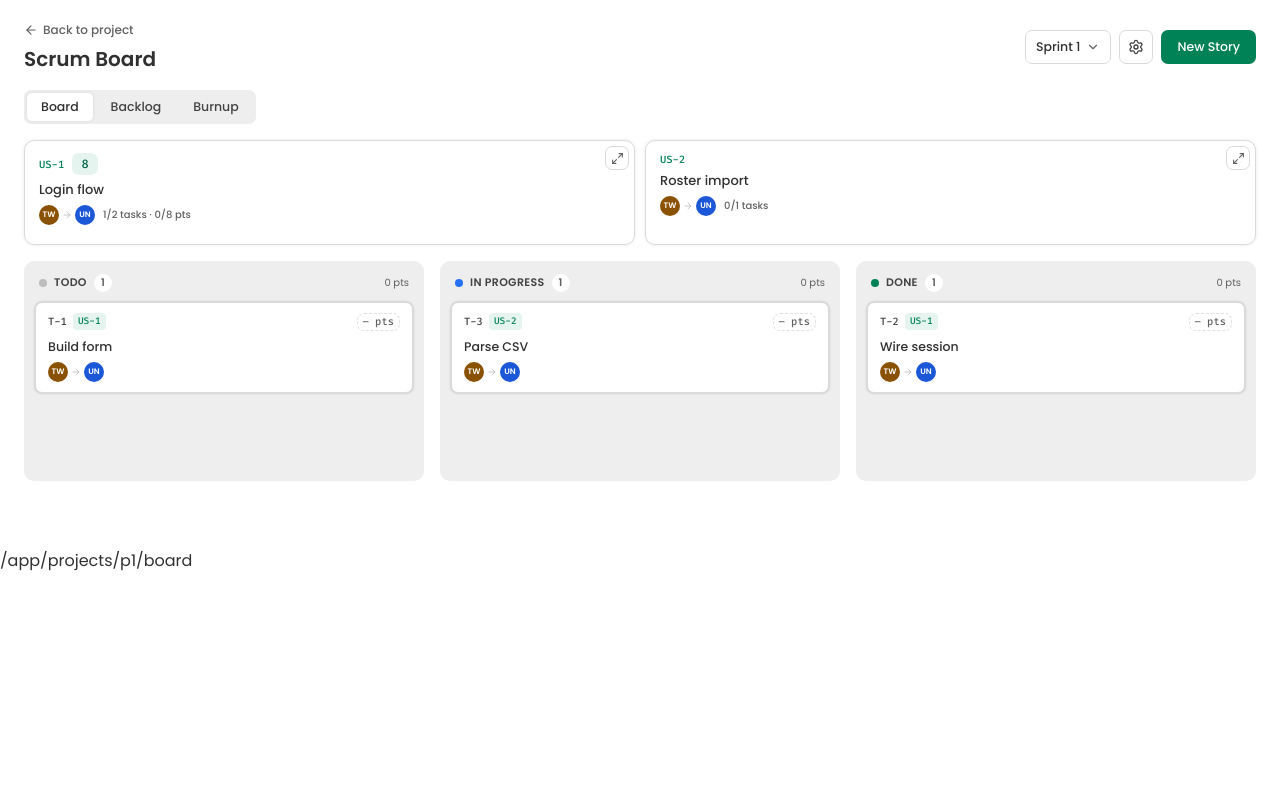
Test: ScrumBoardPage new sprint › opens from the sprint picker's menu and refuses a blank name
Click the button with aria-label "Sprint: Sprint 1" at (1068, 47), box [1025,30,1111,64]
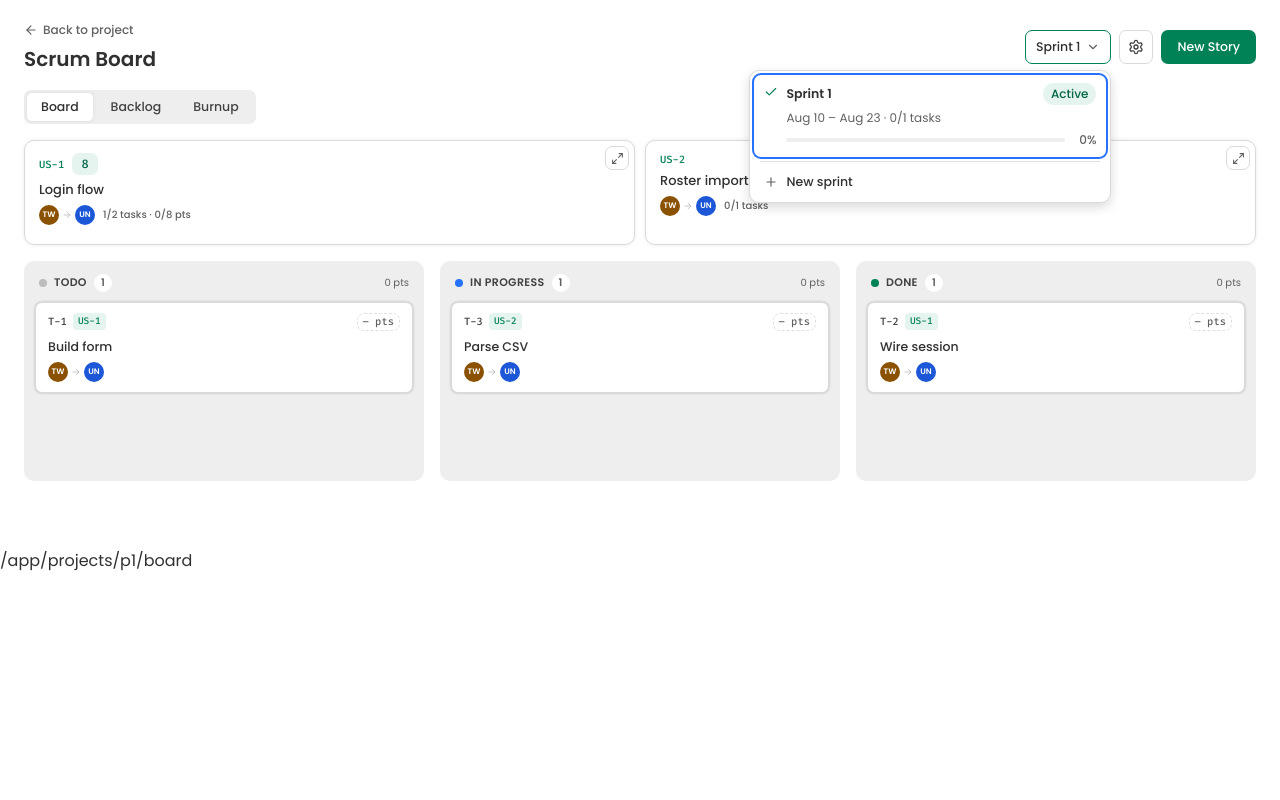
Click the menu item "New sprint" at (820, 182), box [754,166,1106,198]
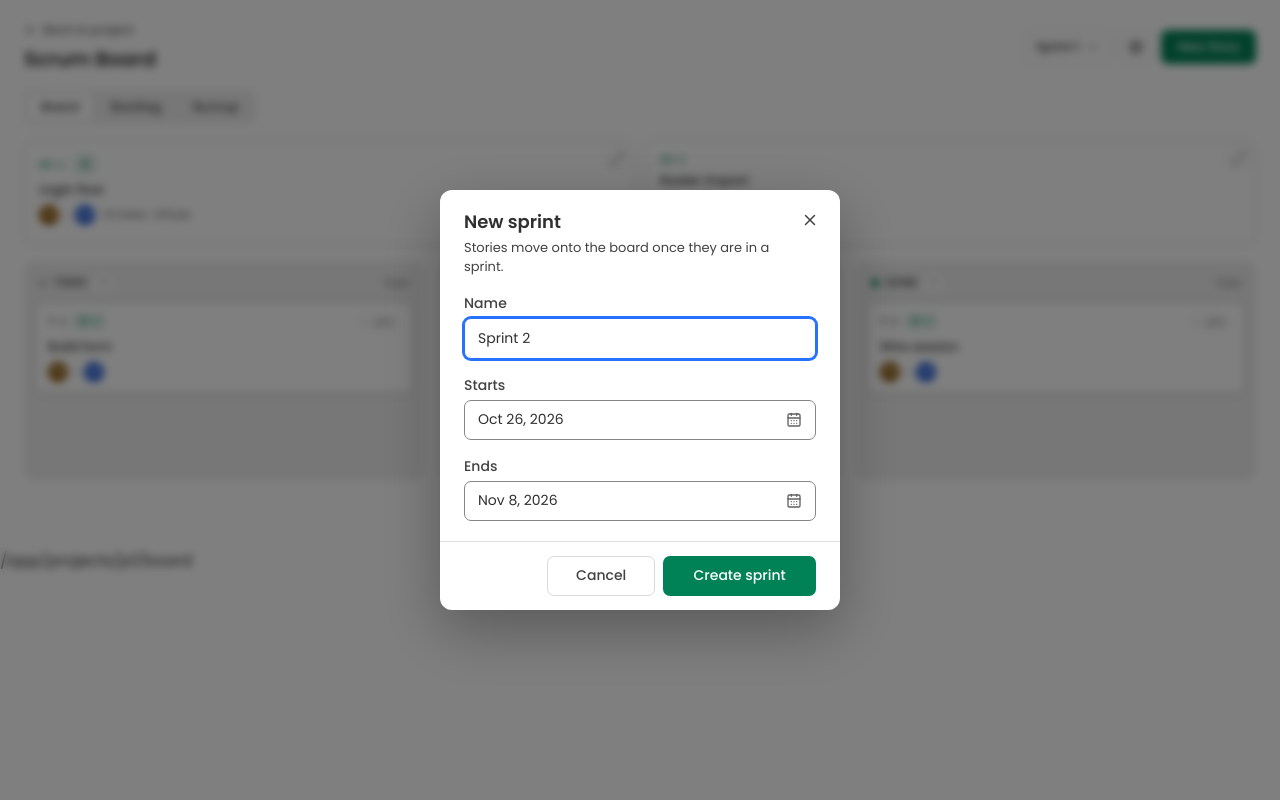
Expected: the field labelled "Name" holds "Sprint 2"
Clear the field labelled "Name" at (640, 338), box [464,318,816,359]
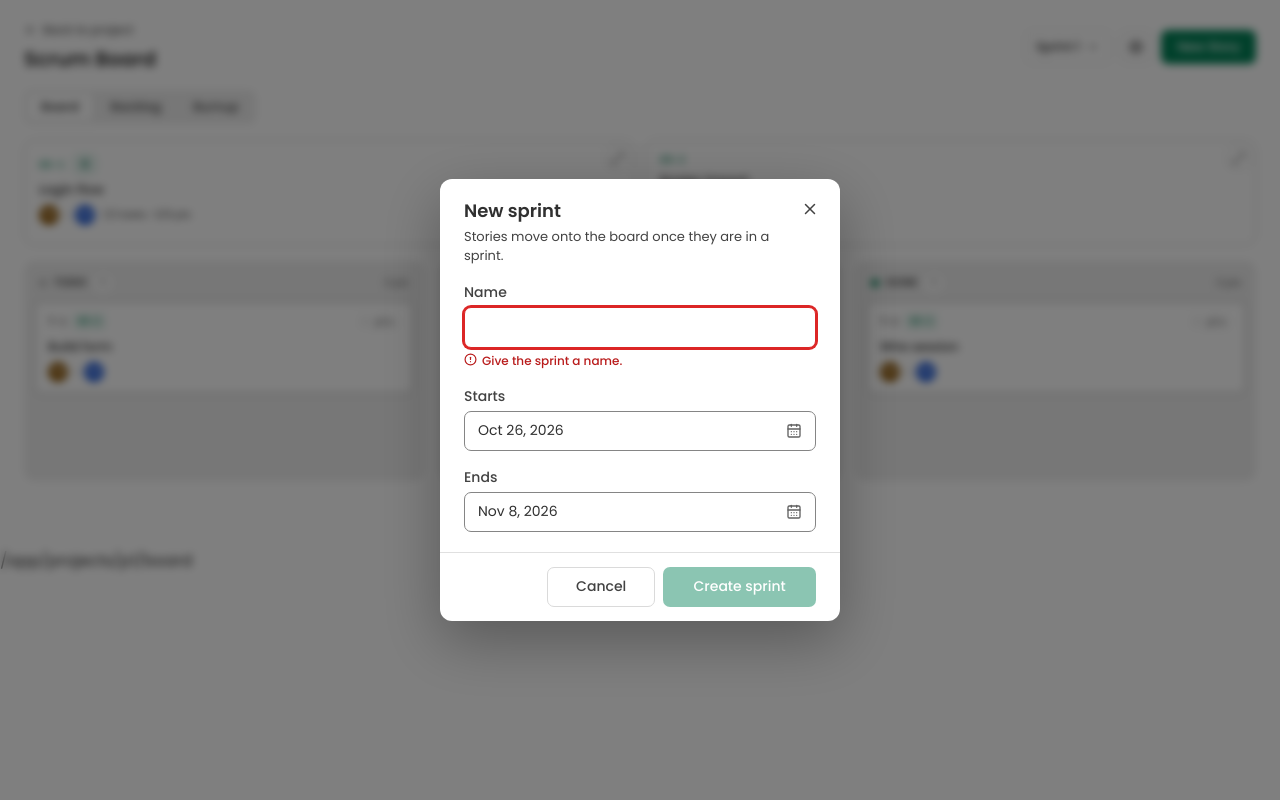
Expected: the text "Give the sprint a name." is shown, [464,352,622,370]
Expected: the button "Create sprint" is disabled, [663,567,816,607]
